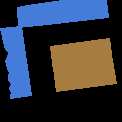parkingspot: (17, 0, 108, 27), (0, 26, 31, 98), (50, 38, 112, 70), (53, 60, 116, 91)
